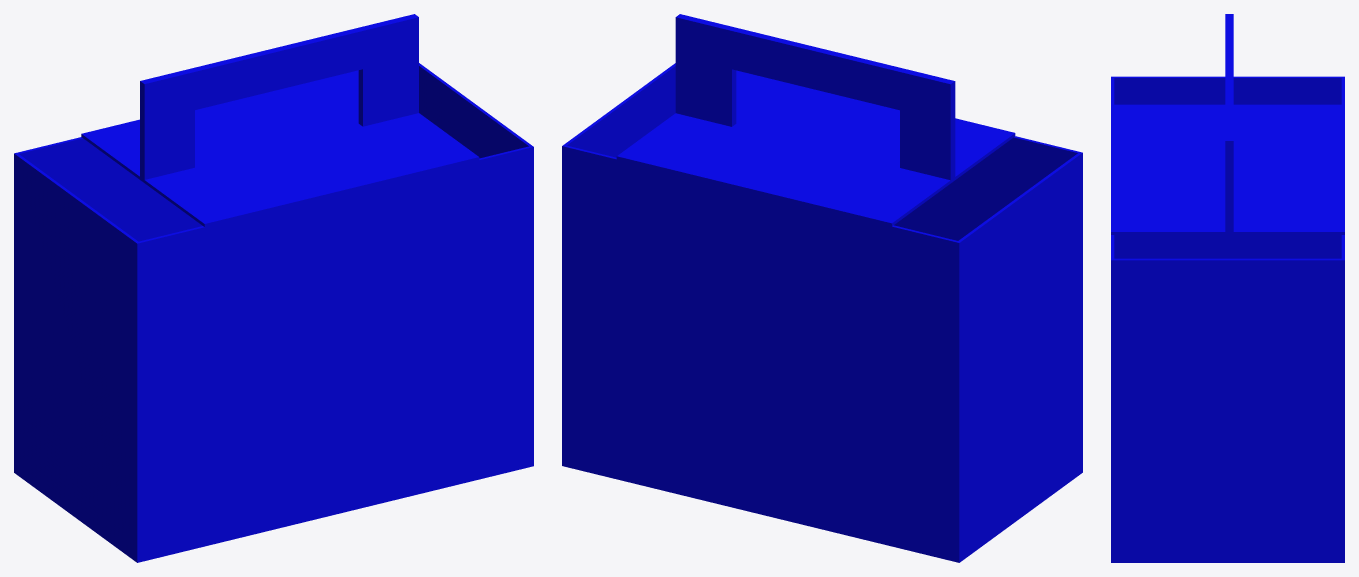
Rendered from bag.dae.
The picture shows the model from 3 angles, left to right: view 1: azimuth 30°, elevation 25°; view 2: azimuth 150°, elevation 25°; view 3: azimuth 270°, elevation 25°; orthographic projection. The views are drawn at different scales.
Visible parts, largest first — view 1: a32ed08a-bbd1-4ded-8680-23b3ebfe1790; view 2: a32ed08a-bbd1-4ded-8680-23b3ebfe1790; view 3: a32ed08a-bbd1-4ded-8680-23b3ebfe1790.
Boxes of the visible parts, bbox=[...] form: a32ed08a-bbd1-4ded-8680-23b3ebfe1790: bbox=[14, 14, 533, 562]; a32ed08a-bbd1-4ded-8680-23b3ebfe1790: bbox=[562, 14, 1082, 562]; a32ed08a-bbd1-4ded-8680-23b3ebfe1790: bbox=[1111, 14, 1344, 562].
Size of the model in its own units: 13 by 7 by 13.1.
